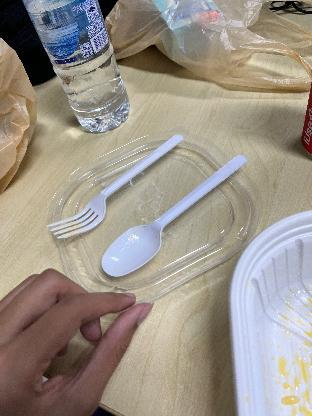Others: (98, 150, 250, 282), (51, 127, 183, 246)
Plastic Bottle: (24, 1, 134, 134)
